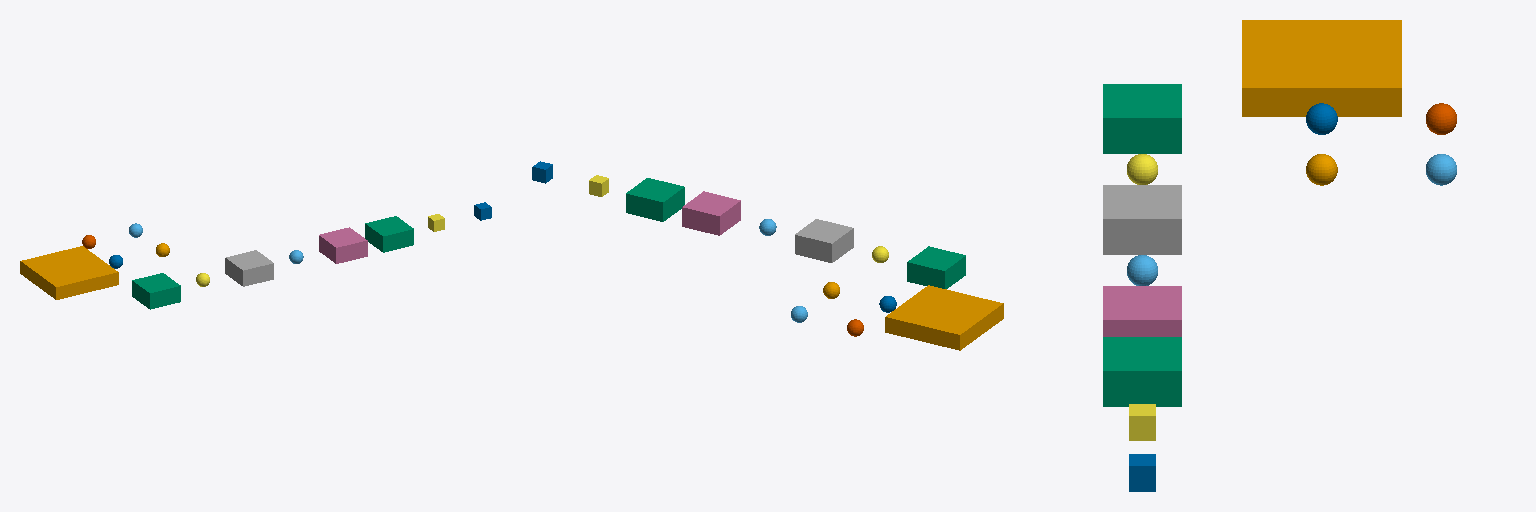
URDF robot description (robotic_manipulator_structure):
<?xml version="1.0" ?>
<robot name="robotic_manipulator_structure">
  <link name="base">
    <visual>
      <geometry>
        <box size="0.08 0.08 0.016"/>
      </geometry>
    </visual>
  </link>
  <link name="coupling_means">
    <visual>
      <geometry>
        <sphere radius="0.008"/>
      </geometry>
    </visual>
  </link>
  <link name="first_arm">
    <visual>
      <geometry>
        <box size="0.04 0.04 0.02"/>
      </geometry>
    </visual>
  </link>
  <link name="first_arm_driving_means">
    <visual>
      <geometry>
        <sphere radius="0.008"/>
      </geometry>
    </visual>
  </link>
  <link name="first_drive_means">
    <visual>
      <geometry>
        <sphere radius="0.008"/>
      </geometry>
    </visual>
  </link>
  <link name="first_driven_means">
    <visual>
      <geometry>
        <sphere radius="0.008"/>
      </geometry>
    </visual>
  </link>
  <link name="hollow_shaft">
    <visual>
      <geometry>
        <box size="0.04 0.04 0.02"/>
      </geometry>
    </visual>
  </link>
  <link name="second_arm">
    <visual>
      <geometry>
        <box size="0.04 0.04 0.02"/>
      </geometry>
    </visual>
  </link>
  <link name="second_drive_means">
    <visual>
      <geometry>
        <sphere radius="0.008"/>
      </geometry>
    </visual>
  </link>
  <link name="second_driven_means">
    <visual>
      <geometry>
        <sphere radius="0.008"/>
      </geometry>
    </visual>
  </link>
  <link name="second_shaft">
    <visual>
      <geometry>
        <box size="0.04 0.04 0.02"/>
      </geometry>
    </visual>
  </link>
  <link name="toothed_gearing">
    <visual>
      <geometry>
        <box size="0.014 0.014 0.014"/>
      </geometry>
    </visual>
  </link>
  <link name="toothed_linking_means">
    <visual>
      <geometry>
        <box size="0.014 0.014 0.014"/>
      </geometry>
    </visual>
  </link>
  <joint name="_attach_base_to_coupling_means" type="fixed">
    <parent link="base"/>
    <child link="coupling_means"/>
    <origin xyz="0.2400 -0.0900 0.0000" rpy="0 0 0"/>
  </joint>
  <joint name="_attach_base_to_first_arm" type="fixed">
    <parent link="base"/>
    <child link="first_arm"/>
    <origin xyz="0.0600 -0.0900 0.0000" rpy="0 0 0"/>
  </joint>
  <joint name="_attach_base_to_first_arm_driving_means" type="fixed">
    <parent link="base"/>
    <child link="first_arm_driving_means"/>
    <origin xyz="0.1200 -0.0900 0.0000" rpy="0 0 0"/>
  </joint>
  <joint name="_attach_base_to_first_drive_means" type="fixed">
    <parent link="base"/>
    <child link="first_drive_means"/>
    <origin xyz="0.0600 0.0000 0.0000" rpy="0 0 0"/>
  </joint>
  <joint name="_attach_base_to_hollow_shaft" type="fixed">
    <parent link="base"/>
    <child link="hollow_shaft"/>
    <origin xyz="0.3000 -0.0900 0.0000" rpy="0 0 0"/>
  </joint>
  <joint name="_attach_base_to_second_drive_means" type="fixed">
    <parent link="base"/>
    <child link="second_drive_means"/>
    <origin xyz="0.1200 0.0000 0.0000" rpy="0 0 0"/>
  </joint>
  <joint name="_attach_base_to_second_shaft" type="fixed">
    <parent link="base"/>
    <child link="second_shaft"/>
    <origin xyz="0.3600 -0.0900 0.0000" rpy="0 0 0"/>
  </joint>
  <joint name="_attach_base_to_toothed_gearing" type="fixed">
    <parent link="base"/>
    <child link="toothed_gearing"/>
    <origin xyz="0.4200 -0.0900 0.0000" rpy="0 0 0"/>
  </joint>
  <joint name="_attach_base_to_toothed_linking_means" type="fixed">
    <parent link="base"/>
    <child link="toothed_linking_means"/>
    <origin xyz="0.4800 -0.0900 0.0000" rpy="0 0 0"/>
  </joint>
  <joint name="_attach_first_arm_to_second_arm" type="fixed">
    <parent link="first_arm"/>
    <child link="second_arm"/>
    <origin xyz="0.1200 0.0000 0.0000" rpy="0 0 0"/>
  </joint>
  <joint name="_attach_first_drive_means_to_first_driven_means" type="fixed">
    <parent link="first_drive_means"/>
    <child link="first_driven_means"/>
    <origin xyz="0.0000 0.0600 0.0000" rpy="0 0 0"/>
  </joint>
  <joint name="_attach_second_drive_means_to_second_driven_means" type="fixed">
    <parent link="second_drive_means"/>
    <child link="second_driven_means"/>
    <origin xyz="0.0000 0.0600 0.0000" rpy="0 0 0"/>
  </joint>
</robot>

--- Facts derived from the render (not from the file) ---
The picture shows the robot from 3 angles, left to right: view 1: azimuth 30°, elevation 25°; view 2: azimuth 150°, elevation 25°; view 3: azimuth 270°, elevation 25°; orthographic projection.
Model robotic_manipulator_structure with 13 links and 12 joints (12 fixed), rooted at base, posed all joints at 0.
Visible links, largest first — view 1: base, hollow_shaft, second_shaft, first_arm, second_arm; view 2: base, hollow_shaft, second_arm, second_shaft, first_arm; view 3: base, first_arm, second_arm, second_shaft, hollow_shaft, toothed_linking_means, toothed_gearing, second_drive_means, first_drive_means, first_driven_means, second_driven_means, coupling_means (+1 smaller).
Link boxes in pixels (left/top/right/bottom): base: left=20, top=246, right=118, bottom=299; hollow_shaft: left=319, top=227, right=367, bottom=263; second_shaft: left=365, top=216, right=413, bottom=252; first_arm: left=132, top=273, right=180, bottom=309; second_arm: left=225, top=250, right=273, bottom=286; base: left=885, top=285, right=1003, bottom=350; hollow_shaft: left=682, top=191, right=740, bottom=235; second_arm: left=795, top=219, right=853, bottom=262; second_shaft: left=626, top=178, right=684, bottom=221; first_arm: left=907, top=246, right=965, bottom=288; base: left=1242, top=20, right=1401, bottom=116; first_arm: left=1103, top=84, right=1181, bottom=153; second_arm: left=1103, top=185, right=1181, bottom=254; second_shaft: left=1103, top=337, right=1181, bottom=406; hollow_shaft: left=1103, top=286, right=1181, bottom=336; toothed_linking_means: left=1129, top=454, right=1155, bottom=491; toothed_gearing: left=1129, top=404, right=1155, bottom=440; second_drive_means: left=1306, top=154, right=1337, bottom=185; first_drive_means: left=1306, top=103, right=1337, bottom=134; first_driven_means: left=1426, top=103, right=1456, bottom=134; second_driven_means: left=1426, top=154, right=1456, bottom=185; coupling_means: left=1127, top=255, right=1157, bottom=285.
Bounding box of the posed robot: 0.527 × 0.178 × 0.02 m (x, y, z).
Geometry: primitives only (box / cylinder / sphere), no mesh files.
